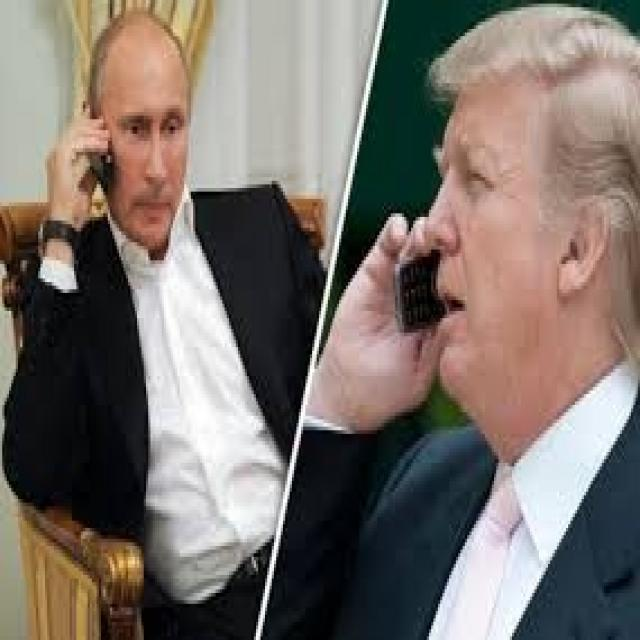phone: (323, 192, 467, 434), (34, 76, 152, 257)
